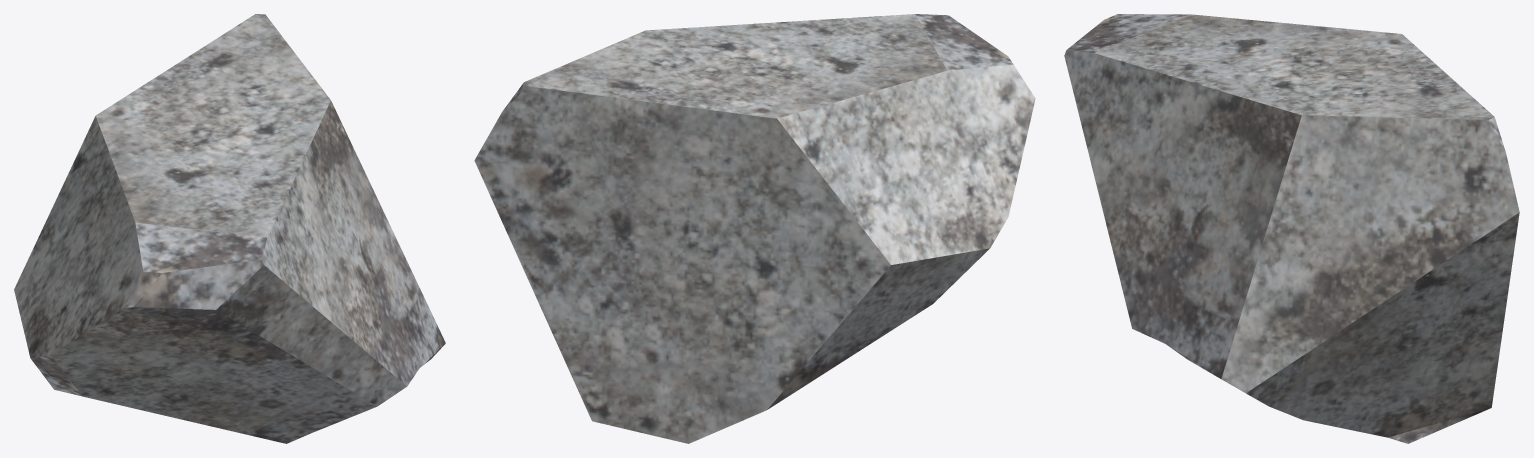
File: Asteroid_Large_001_02_001_03_001.fbx
3 views of the same model, side by side, from view 1: azimuth 30°, elevation 25°; view 2: azimuth 150°, elevation 25°; view 3: azimuth 270°, elevation 25° (orthographic).
Parts seen in each view (by area): view 1: Asteroid_Large_001_02_001_03_001; view 2: Asteroid_Large_001_02_001_03_001; view 3: Asteroid_Large_001_02_001_03_001.
Part boxes in pixels (box(x1,y1,x2,y2)): Asteroid_Large_001_02_001_03_001: box(14, 14, 445, 443); Asteroid_Large_001_02_001_03_001: box(474, 14, 1035, 443); Asteroid_Large_001_02_001_03_001: box(1064, 14, 1519, 443).
Size of the model in its own units: 8.92 by 7.53 by 8.75.
